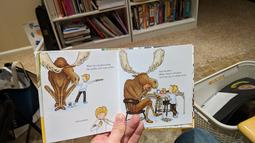text block: (155, 67, 189, 79), (83, 60, 116, 71), (72, 115, 92, 123)
